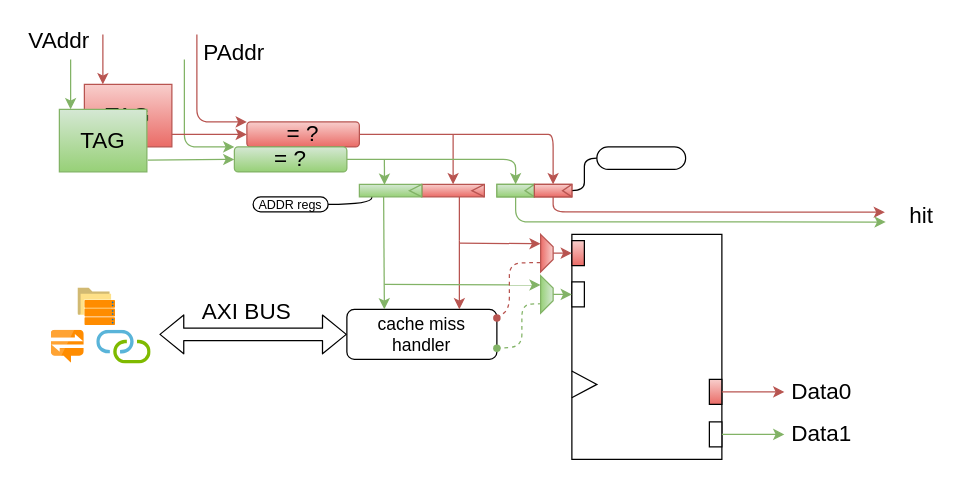
Image size: 980x481. Some labels were removed from this diagram. Each missing label, with the centre of its shape:
"hit flag regs" goes at (x=641, y=157).
"tdp_ram" goes at (x=646, y=346).
